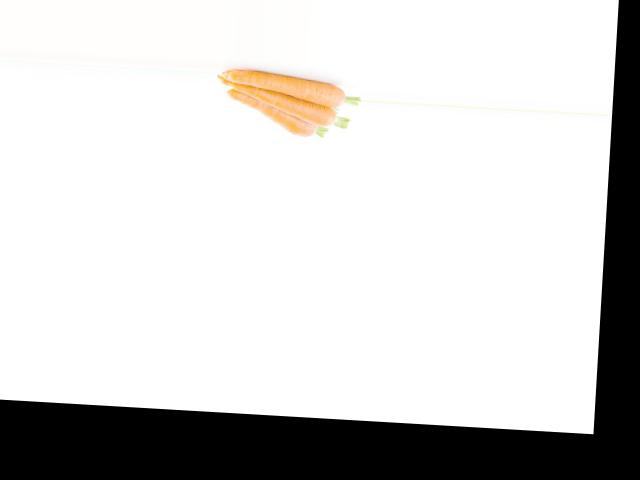carrot: (221, 69, 354, 105)
